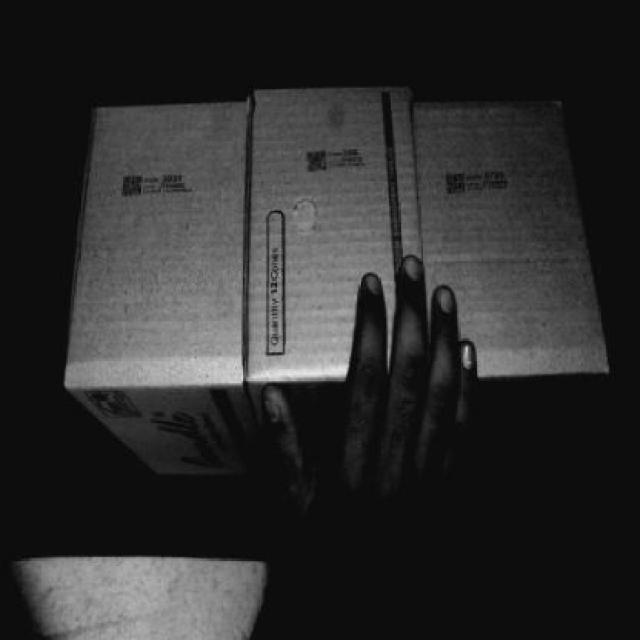cardboxes: (255, 79, 430, 372), (68, 102, 247, 376), (420, 81, 580, 372)
